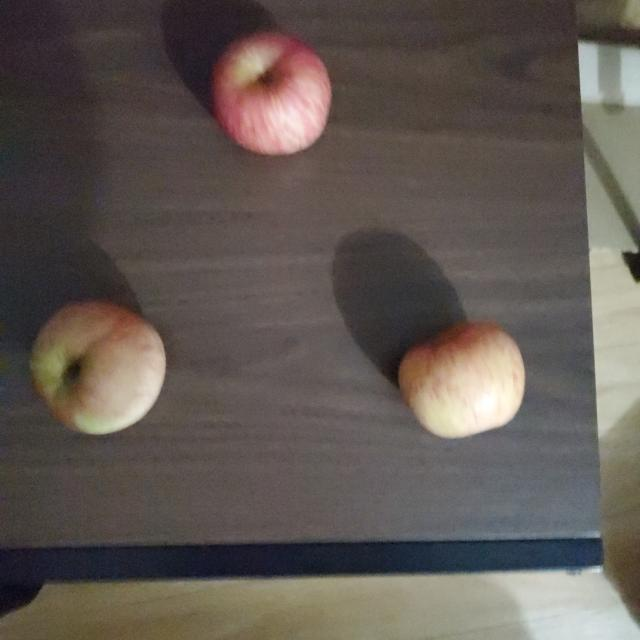apple: (31, 298, 166, 435), (397, 316, 526, 438), (215, 30, 334, 153)
